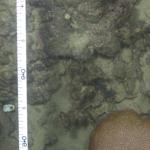dead: (26, 1, 149, 148)
